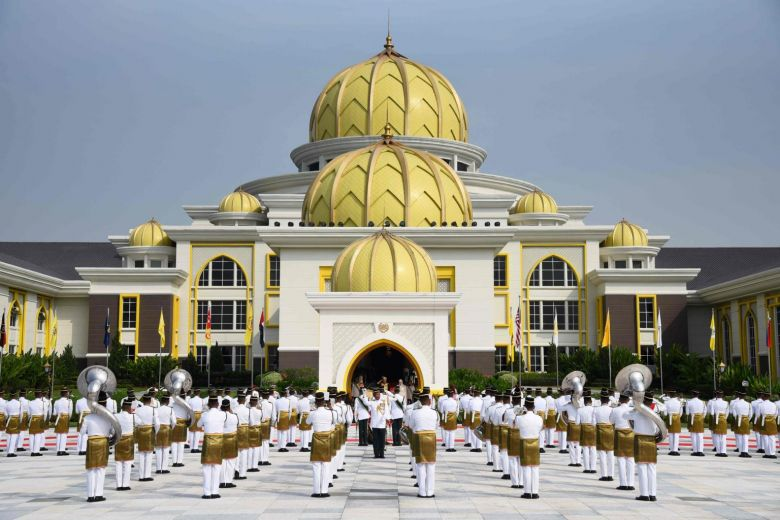Mosque: (92, 42, 663, 382)
